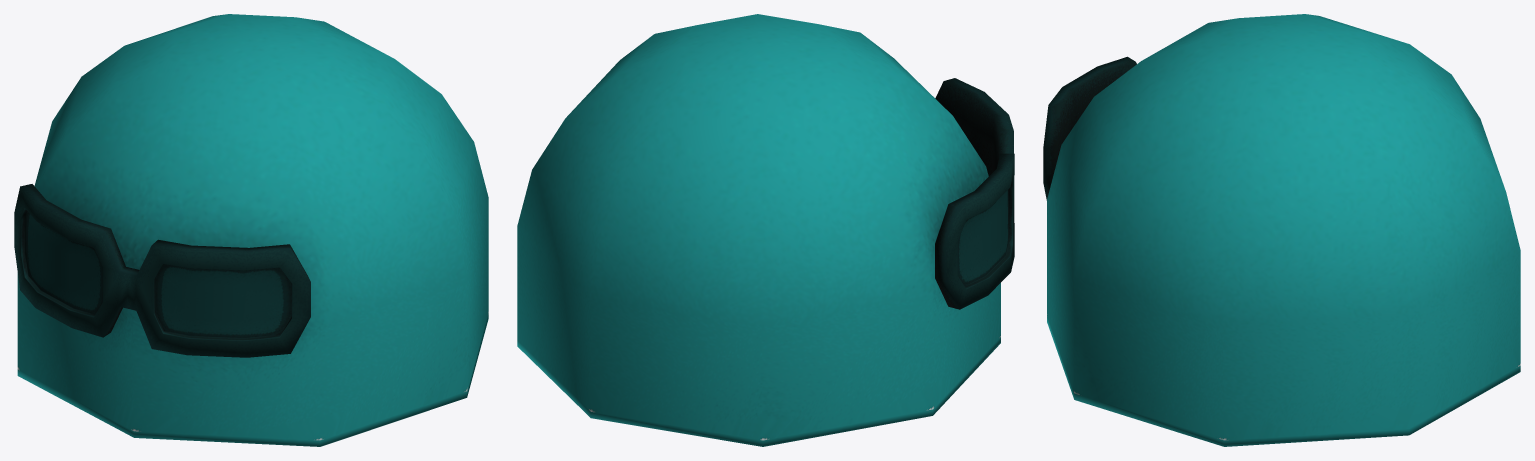
The model's file is Android_head_lightblue.dae.
The picture shows the model from 3 angles, left to right: view 1: azimuth 30°, elevation 25°; view 2: azimuth 150°, elevation 25°; view 3: azimuth 270°, elevation 25°; orthographic projection.
Parts seen in each view (by area): view 1: Head, Glasses; view 2: Head, Glasses; view 3: Head, Glasses.
Part boxes in pixels (<box>): Head: <box>17,14,488,446</box>; Glasses: <box>14,184,310,357</box>; Head: <box>517,14,1000,446</box>; Glasses: <box>935,78,1014,309</box>; Head: <box>1047,14,1520,446</box>; Glasses: <box>1043,56,1136,200</box>.
Bounding box in the file's own units: 2.03 × 1.95 × 1.38.
Materials: 3 (3 with a texture image).
